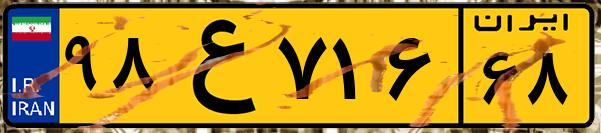1: (330, 28, 385, 110)
6: (385, 28, 445, 110), (475, 38, 525, 113)
7: (270, 28, 330, 110)
8: (525, 38, 570, 115), (110, 28, 158, 98)
9: (57, 26, 110, 100)
ع: (158, 12, 270, 120)
